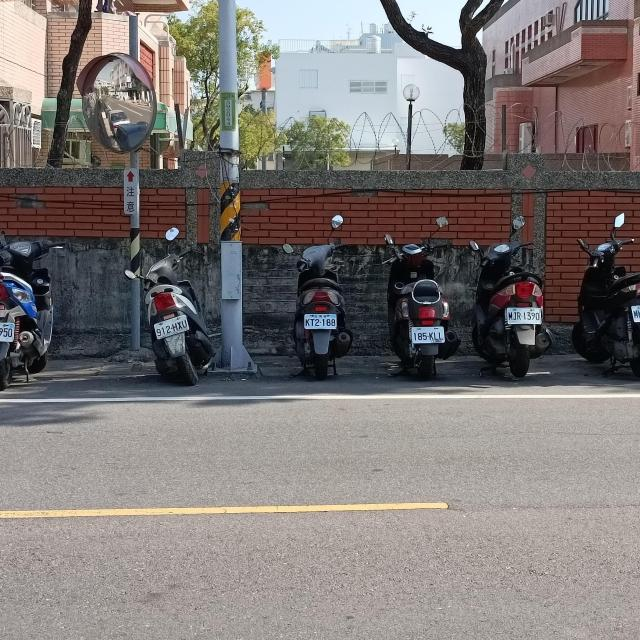W: (154, 316, 189, 338), (505, 306, 543, 324), (411, 327, 444, 343), (304, 314, 336, 328), (0, 321, 16, 342), (631, 304, 640, 321)
